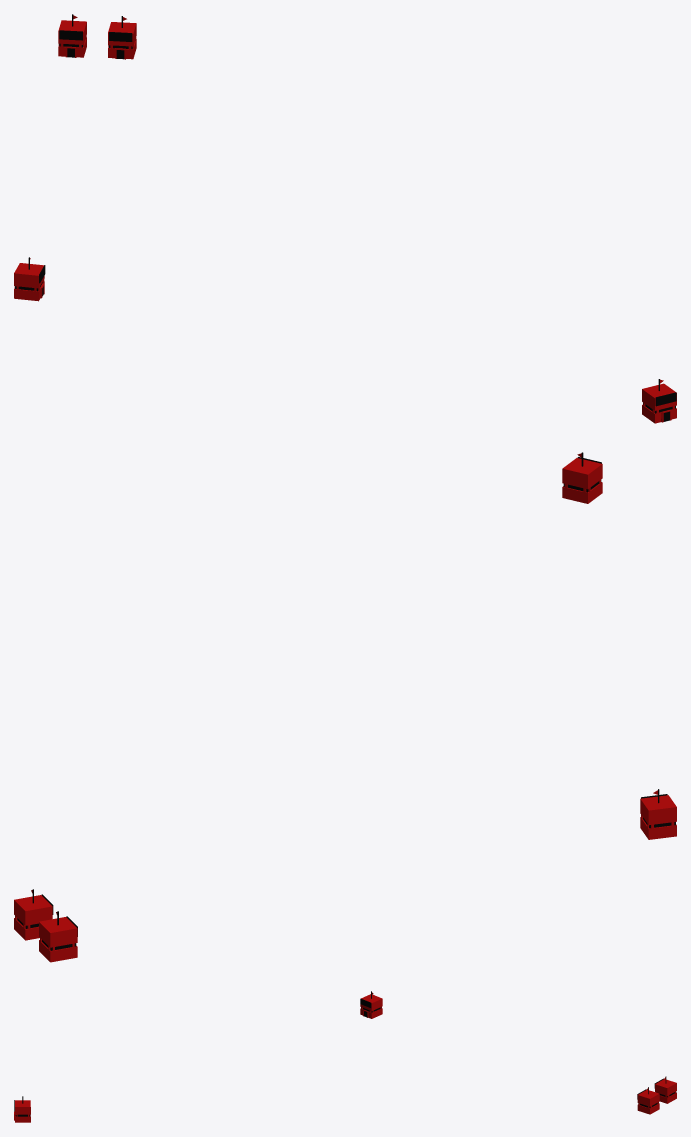
The model's file is Tutorial_Level_Kaleler.fbx.
The picture shows the model from 3 angles, top to bottom: view 1: azimuth 30°, elevation 25°; view 2: azimuth 150°, elevation 25°; view 3: azimuth 270°, elevation 25°; orthographic projection. The views are drawn at different scales.
Visible parts, largest first — view 1: Cube.019, Cube.005, Cube.001, Cube.020; view 2: Cube.019, Cube.001, Cube.005, Cube.020; view 3: Cube.020, Cube.005, Cube.001, Cube.019.
Boxes of the visible parts, x1,y1,x2,y2 form: Cube.019: (642,379,676,423); Cube.005: (14,257,45,301); Cube.001: (58,14,86,57); Cube.020: (108,16,136,59); Cube.019: (562,452,602,503); Cube.001: (39,911,77,962); Cube.005: (640,789,676,839); Cube.020: (14,889,53,940); Cube.020: (637,1087,659,1114); Cube.005: (360,991,382,1018); Cube.001: (654,1076,676,1103); Cube.019: (14,1096,30,1122).
Bounding box in the file's own units: 1395 × 132 × 3458.
